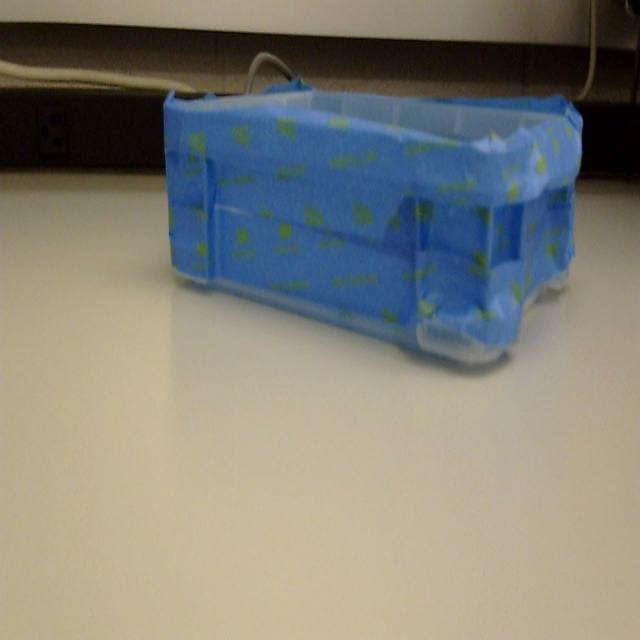bucket: (161, 84, 583, 372)
